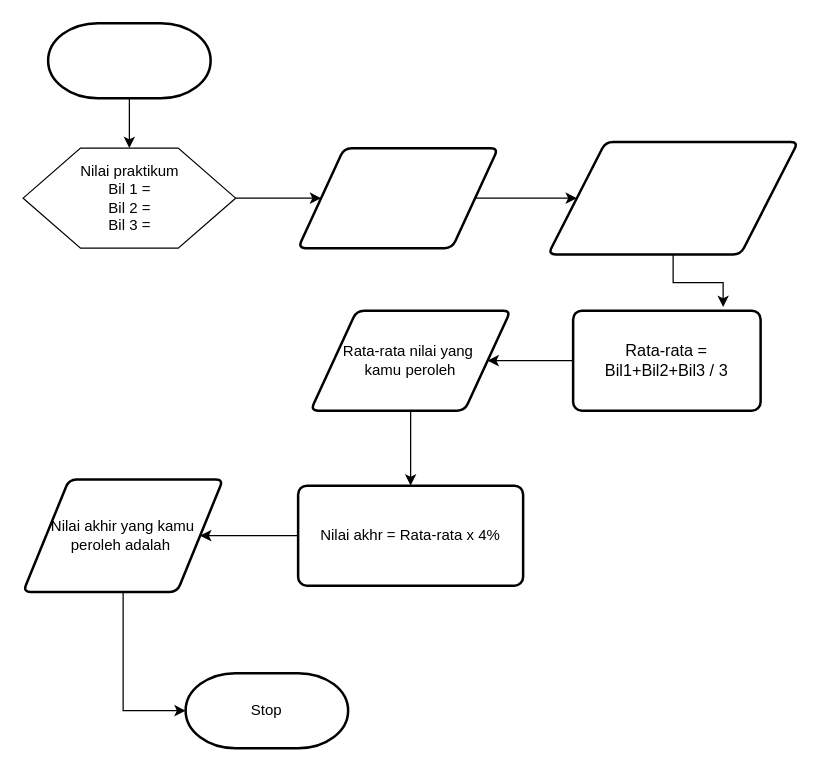
This 820x770 diagram has some shape labels left out. The shapes that lost their labels are listed below. From the top down, each one's centre as x and y in pixels, then its label:
the point at 128,60: Start
the point at 397,197: Input bil 1 Input bil 2 Input bil 3
the point at 672,197: Nilai akhir 4 persen dari rata-rata nilai yang diperoleh
